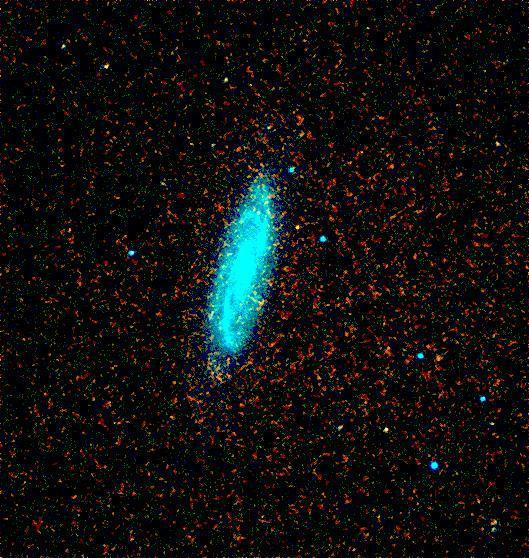star: (282, 212, 312, 242)
